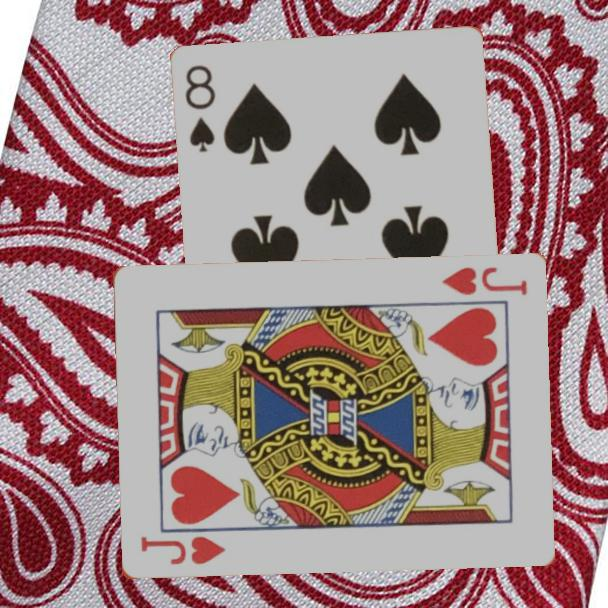h11: (437, 263, 530, 299), (137, 533, 228, 568)
s08: (182, 61, 219, 156)
